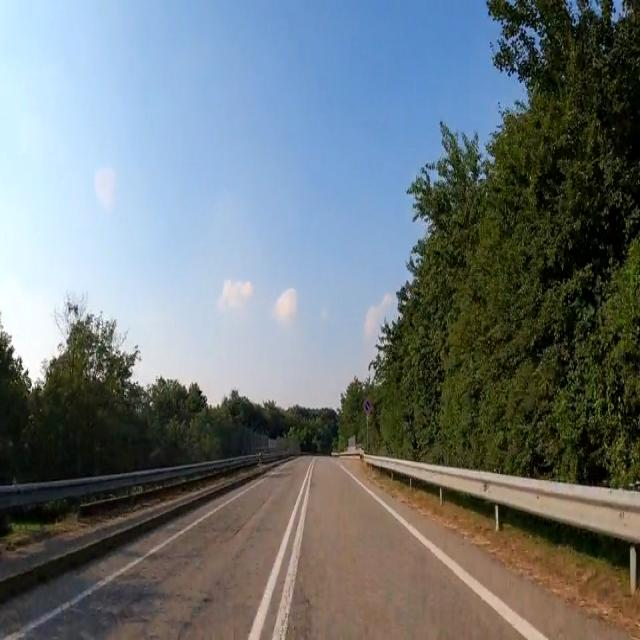lane: (2, 480, 261, 639), (341, 463, 547, 639), (248, 466, 309, 639), (272, 462, 313, 640)
road: (0, 456, 628, 638)
